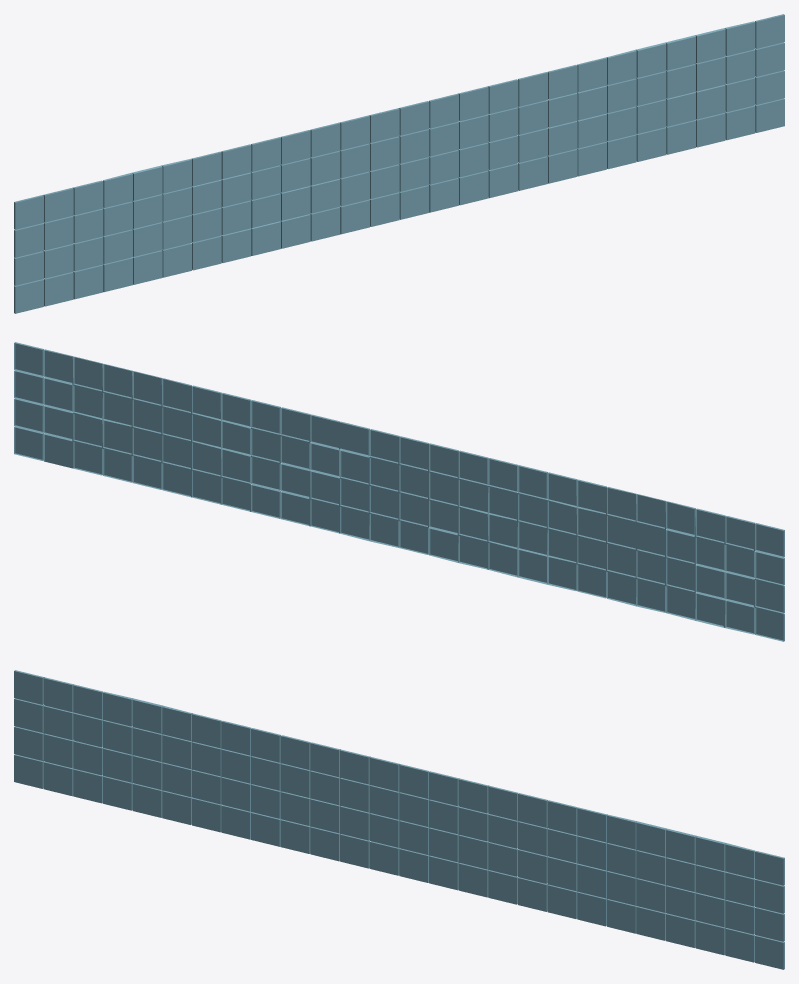
The model's file is tiles.fbx.
3 views of the same model, one above another, from view 1: azimuth 30°, elevation 25°; view 2: azimuth 150°, elevation 25°; view 3: azimuth 330°, elevation 25° (orthographic).
Parts seen in each view (by area): view 1: walls.001; view 2: walls.001; view 3: walls.001.
Part boxes in pixels (<box>): walls.001: <box>14,14,784,313</box>; walls.001: <box>14,342,784,641</box>; walls.001: <box>14,670,784,969</box>.
Bounding box in the file's own units: 2.04 × 0.2837 × 0.00589.
